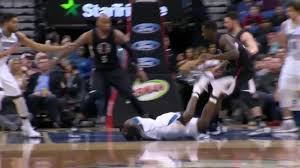10+: (1, 1, 300, 140)
down: (119, 75, 228, 140)
